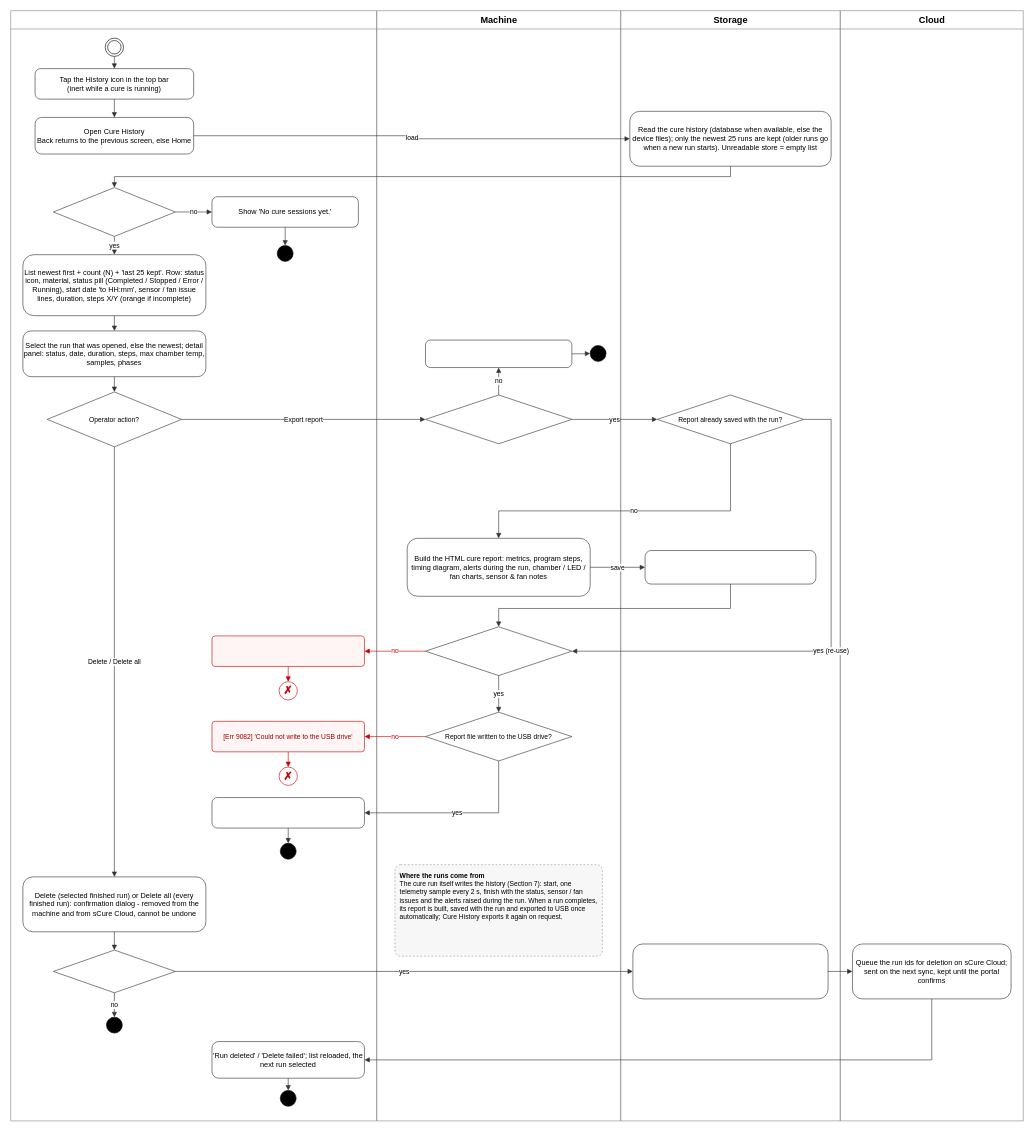
The diagram is 1034 pixels wide and 1132 high, and some of its shapes have lost their labels. Here are the shapes that lost their labels. From the top down, the box of each, then its label:
(53, 187, 175, 236): Any runs?
(425, 339, 572, 368): Export report disabled
(425, 394, 572, 444): Selected run has telemetry samples?
(10, 10, 377, 1121): UI sCure
(644, 550, 816, 584): Save the report with the run
(211, 635, 364, 666): [Err 9081] 'No USB drive found'
(425, 626, 572, 676): USB drive found?
(211, 797, 364, 828): 'Saved to USB' (the message clears after 3 s)
(53, 949, 175, 993): Confirmed?
(632, 943, 828, 999): Remove the run(s) with telemetry and report; a run in progress is never deleted
